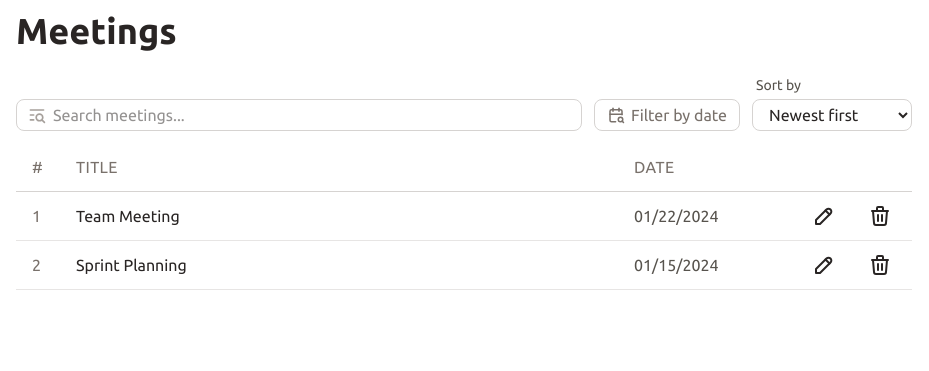
Test case: MeetingList – date filter toggle › clicking the toggle shows the date filter panel
Click the button "Filter by date": x=667, y=115 top-left (594, 99), bottom-right (740, 131)
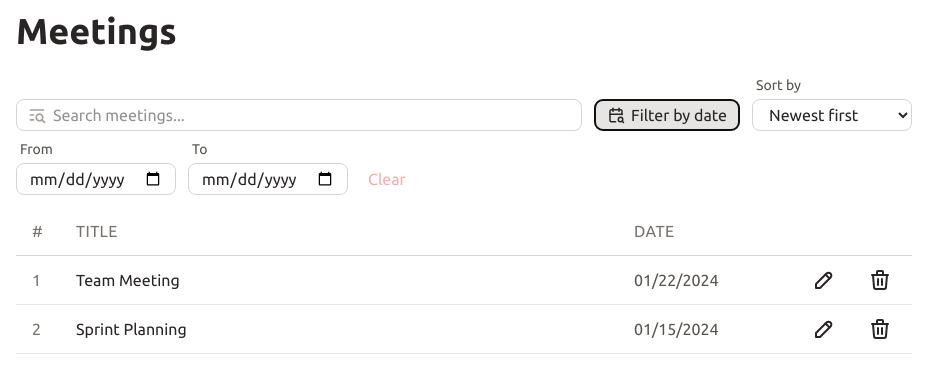
Now the date field labelled "From" is shown, box top-left (16, 163), bottom-right (176, 195)
Now the date field labelled "To" is shown, box top-left (188, 163), bottom-right (348, 195)
